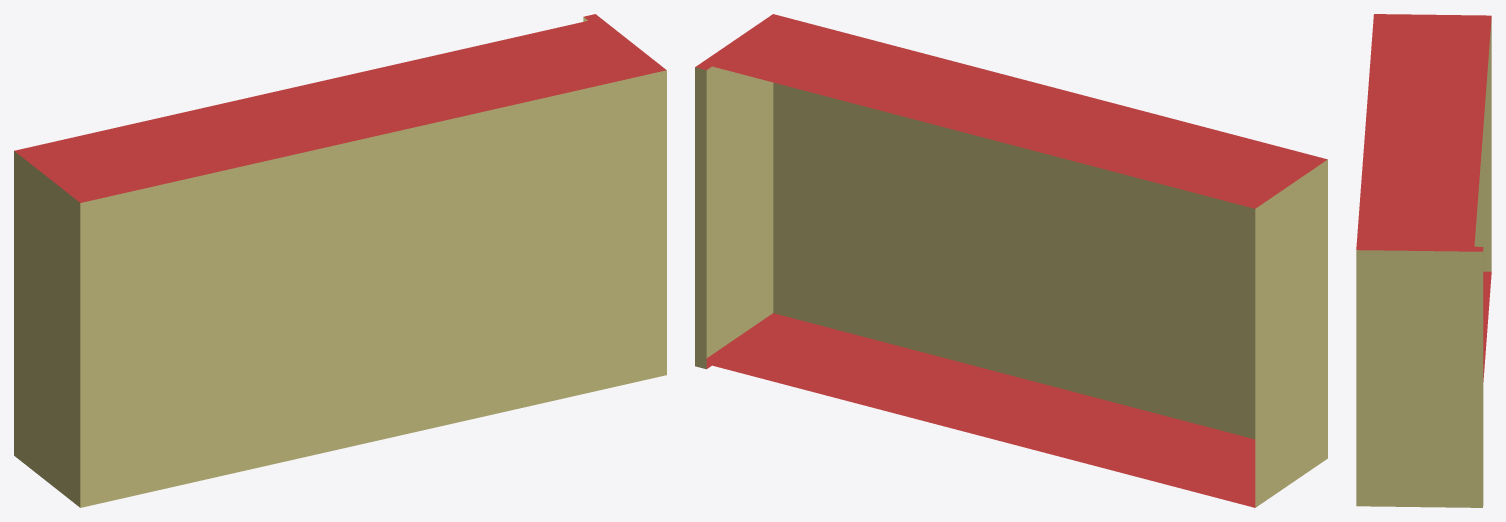
3 views of the same model, side by side, from view 1: azimuth 30°, elevation 25°; view 2: azimuth 150°, elevation 25°; view 3: azimuth 270°, elevation 25° (orthographic). The views are drawn at different scales.
Size of the model in its own units: 12.33 by 2.97 by 6.19.
